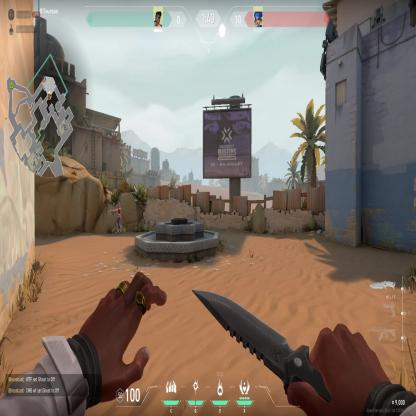enemy: (112, 201, 122, 235)
